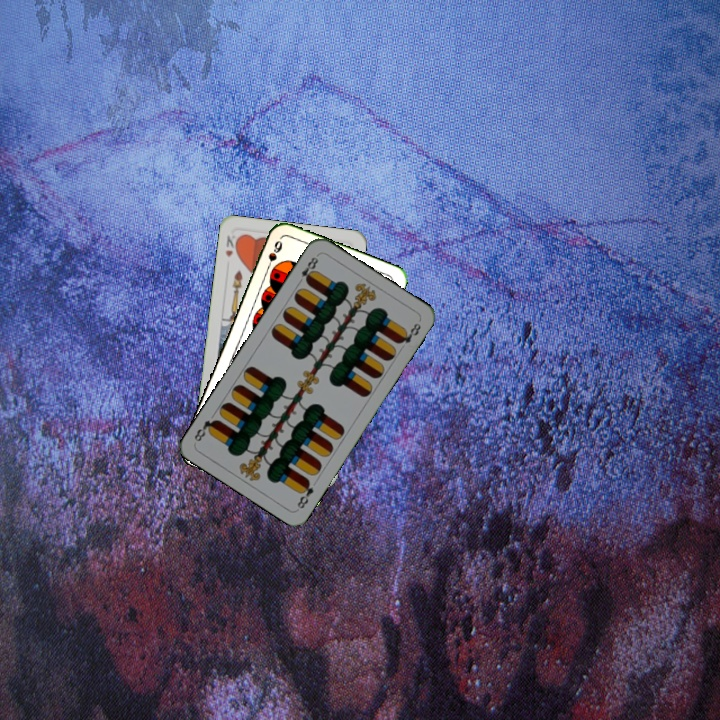E8: (294, 253, 321, 287), (293, 476, 316, 511)
HK: (221, 231, 241, 260)
S9: (262, 236, 285, 275)
